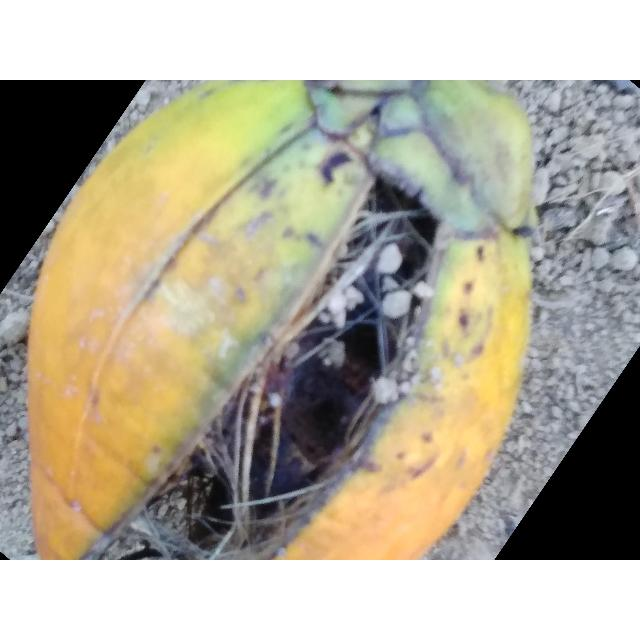damaged: (24, 80, 536, 560)
